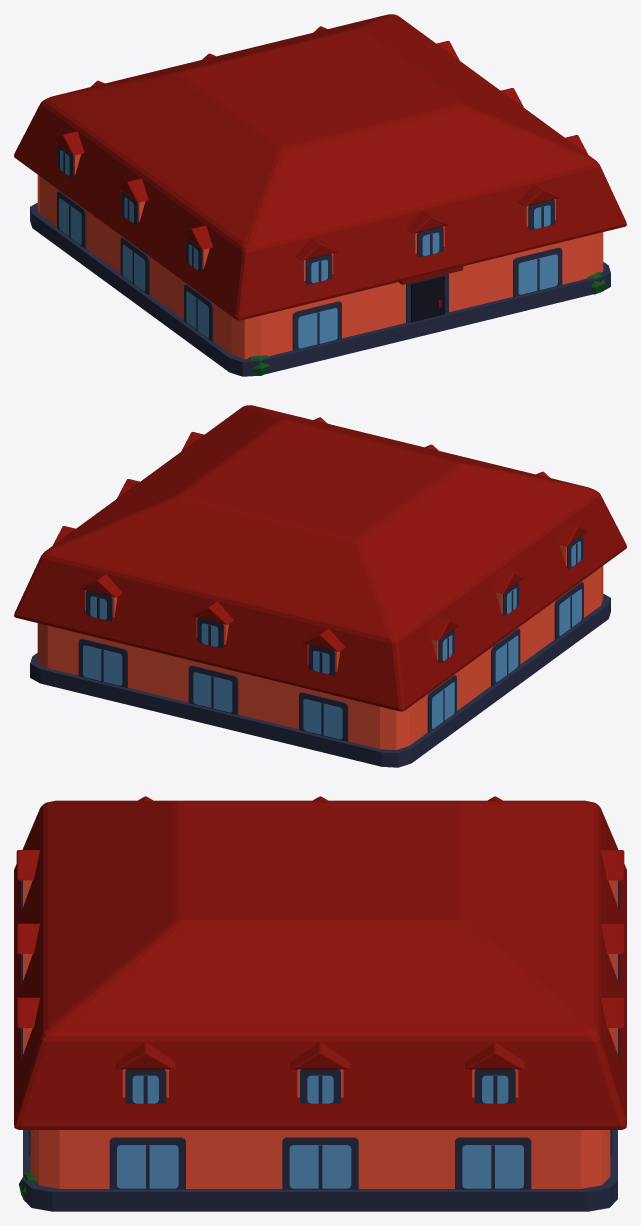
File: house-2x2-1f-mansard-c.glb
The picture shows the model from 3 angles, top to bottom: view 1: azimuth 30°, elevation 25°; view 2: azimuth 150°, elevation 25°; view 3: azimuth 270°, elevation 25°; orthographic projection. The views are drawn at different scales.
Parts seen in each view (by area): view 1: house-2x2-1f-mansard-c; view 2: house-2x2-1f-mansard-c; view 3: house-2x2-1f-mansard-c.
Boxes of the visible parts, x1=… form: house-2x2-1f-mansard-c: x1=14, y1=14, x2=626, y2=376; house-2x2-1f-mansard-c: x1=14, y1=405, x2=626, y2=767; house-2x2-1f-mansard-c: x1=14, y1=796, x2=626, y2=1211.
Size of the model in its own units: 1.99 by 0.8052 by 1.99.
1 material, 1 textured.
